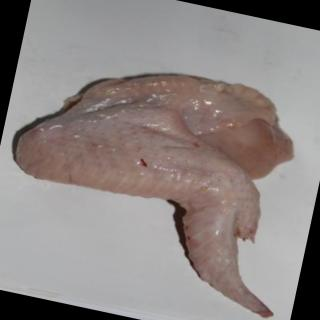Ayam: (1, 40, 319, 319)
